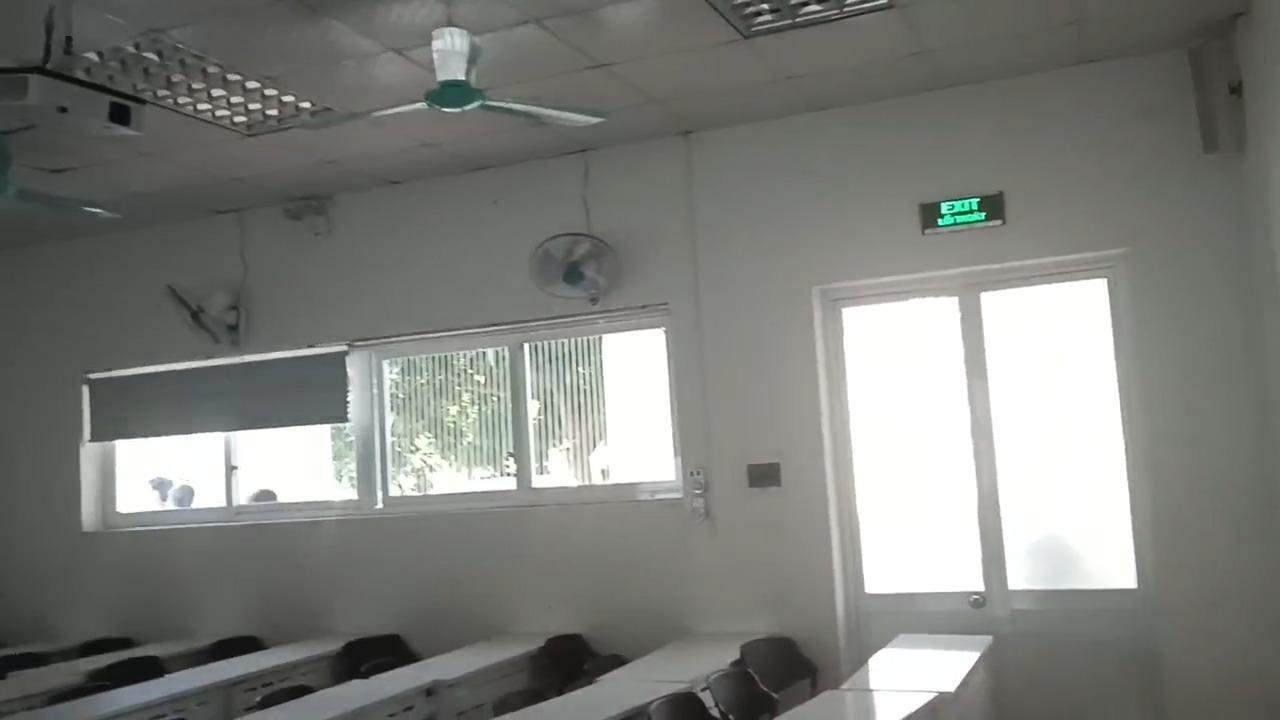chair: (742, 636, 816, 692), (338, 632, 421, 678), (530, 632, 598, 687), (705, 671, 775, 719), (650, 689, 732, 719), (200, 633, 261, 666), (107, 656, 163, 691), (254, 687, 326, 711), (81, 633, 133, 663), (493, 690, 544, 719), (7, 651, 45, 675)
fan: (323, 11, 652, 174), (511, 223, 640, 313), (163, 281, 249, 345)
project: (2, 0, 153, 184)
table: (16, 673, 221, 719), (612, 631, 775, 688), (842, 632, 993, 691), (366, 638, 555, 684), (504, 675, 699, 719), (241, 677, 431, 719), (176, 636, 352, 678), (66, 636, 211, 675), (767, 688, 934, 719), (0, 670, 68, 699)
